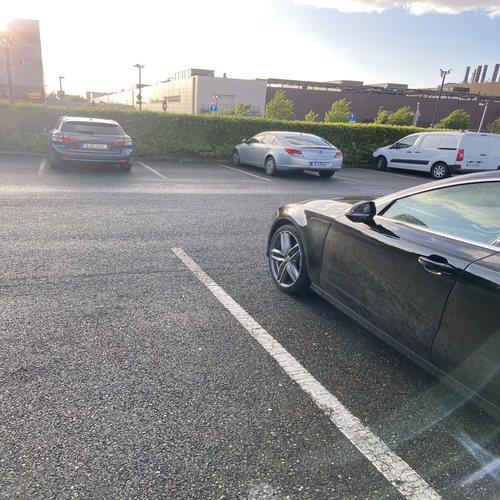Car: (284, 171, 500, 400), (375, 130, 500, 176), (228, 132, 346, 177), (47, 115, 135, 169)
